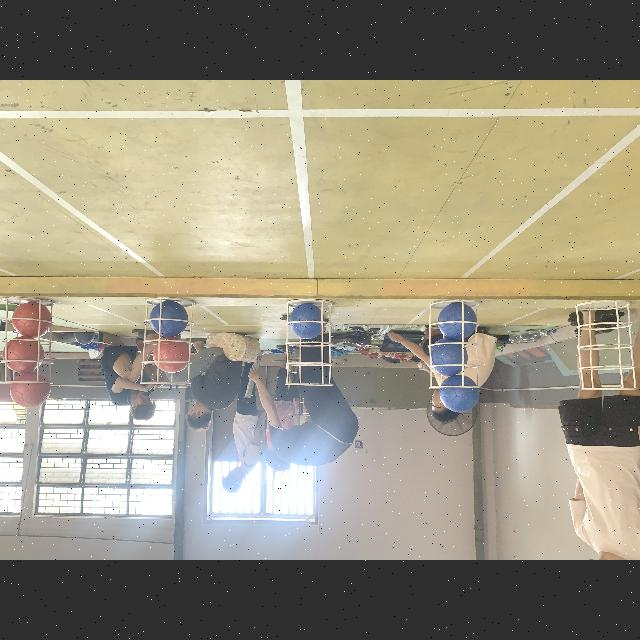B: (438, 302, 477, 340), (430, 339, 470, 376), (438, 376, 478, 412), (288, 303, 324, 339), (149, 302, 187, 336)
R: (8, 373, 50, 407), (12, 302, 50, 338), (3, 340, 45, 372), (152, 338, 188, 374)
